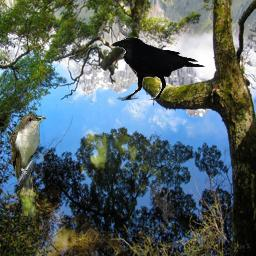Crow: (110, 37, 207, 101)
Cuckoo: (11, 110, 46, 216)
